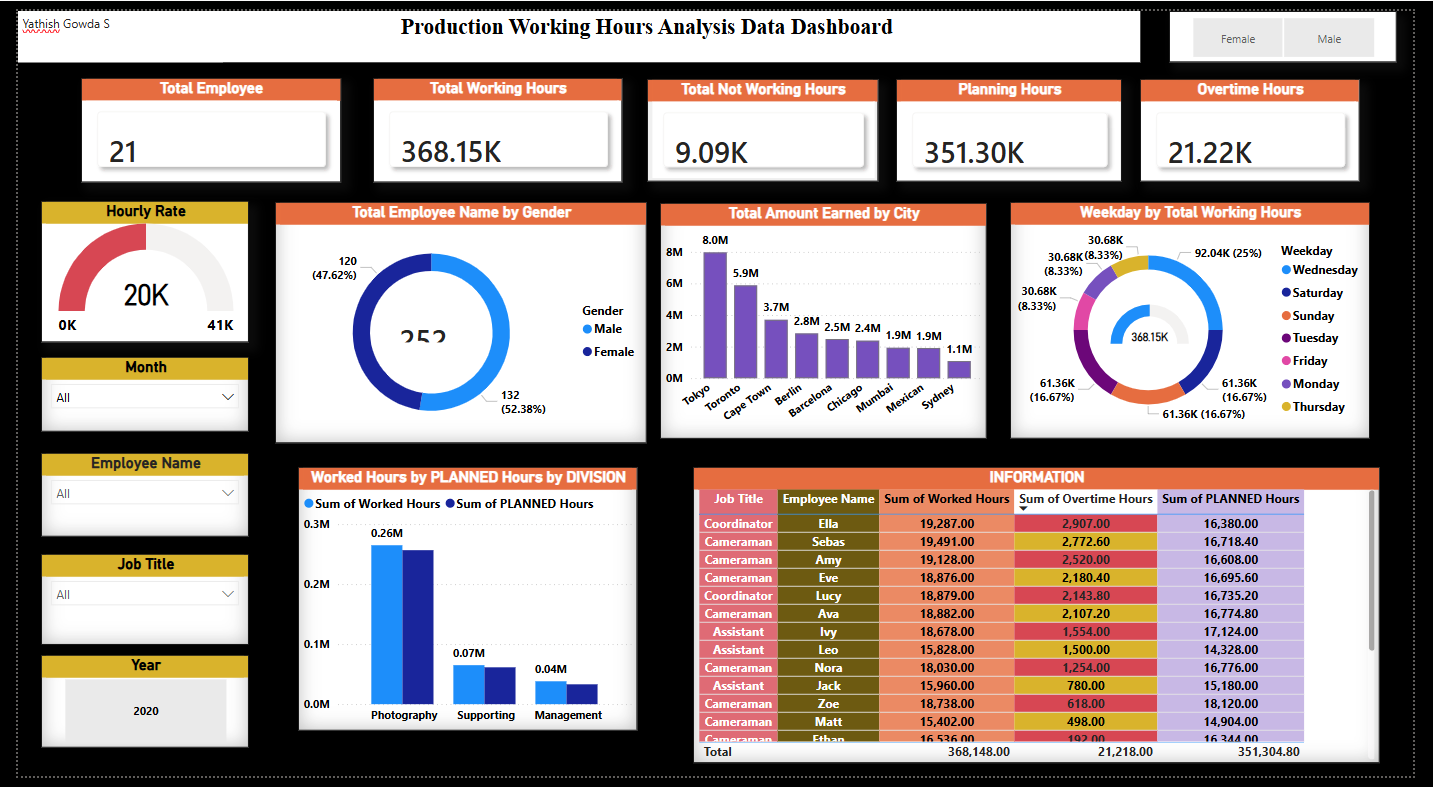

This screenshot's page, from the dashboard's own definition file:
{"tool":"powerbi","page":{"name":"Page 1","canvas":[1550,850],"ordinal":0},"visuals":[{"type":"cardVisual","title":"Total Employee","fields":{"Data":["Table1.Total Employees"]},"box":[70,74.3,288.6,115.7],"z":0},{"type":"cardVisual","title":"Total Working Hours","fields":{"Data":["Sum(Table1.Worked Hours)"]},"box":[394.3,74.3,277.1,115.7],"z":1000},{"type":"cardVisual","title":"Total Not Working Hours","fields":{"Data":["Sum(Table1.Unworked Hours)"]},"box":[698.6,75.7,257.1,114.3],"z":2000},{"type":"cardVisual","title":"Planning Hours","fields":{"Data":["Sum(Table1.PLANNED Hours)"]},"box":[975.7,75.7,251.4,114.3],"z":3000},{"type":"cardVisual","title":"Overtime Hours ","fields":{"Data":["Sum(Table1.Overtime Hours)"]},"box":[1247.1,75.7,244.3,114.3],"z":4000},{"type":"gauge","title":"Hourly Rate","fields":{"Y":["Sum(Table1.Hourly Rate)"]},"box":[25.7,211.4,231.4,157.1],"z":5000},{"type":"slicer","title":"Month","fields":{"Values":["Table1.Start Date.Variation.Date Hierarchy.Month"]},"box":[25.7,384.3,231.4,82.9],"z":6000},{"type":"slicer","title":"Employee Name ","fields":{"Values":["Table1.Employee Name"]},"box":[25.7,491.4,231.4,92.9],"z":7000},{"type":"slicer","title":"Job Title","fields":{"Values":["Table1.Job Title"]},"box":[25.7,602.9,231.4,101.4],"z":8000},{"type":"slicer","title":"Year ","fields":{"Values":["Table1.Year"]},"box":[25.7,715.7,231.4,102.9],"z":9000},{"type":"slicer","fields":{"Values":["Table1.Gender"]},"box":[1278.6,0,252.9,57.1],"z":10000},{"type":"donutChart","title":"Total Employee Name by Gender","fields":{"Category":["Table1.Gender"],"Y":["CountNonNull(Table1.Employee Name)"]},"box":[285,211.7,413.3,268.3],"z":11000},{"type":"clusteredColumnChart","title":"Total Amount Earned by City","fields":{"Y":["Sum(Table1.Amount Earned)"],"Category":["Table1.City"]},"box":[713.3,213.3,363.3,261.7],"z":12000},{"type":"donutChart","title":"Weekday by Total Working Hours","fields":{"Category":["Table1.Weekday"],"Y":["Sum(Table1.Worked Hours)"]},"box":[1101.7,211.7,400,263.3],"z":13000},{"type":"cardVisual","fields":{"Data":["CountNonNull(Table1.Employee Name)"]},"box":[406.7,321.7,103.3,51.7],"z":14000},{"type":"gauge","fields":{"Y":["Sum(Table1.Worked Hours)"]},"box":[1208.6,304.3,97.1,87.1],"z":15000},{"type":"clusteredColumnChart","title":"Worked Hours by PLANNED Hours by DIVISION","fields":{"Y":["Sum(Table1.Worked Hours)","Sum(Table1.PLANNED Hours)"],"Category":["Table1.DIVISION"]},"box":[311.4,507.1,377.1,292.9],"z":16000},{"type":"tableEx","title":"INFORMATION","fields":{"Values":["Table1.Job Title","Table1.Employee Name","Sum(Table1.Worked Hours)","Sum(Table1.Overtime Hours)","Sum(Table1.PLANNED Hours)"]},"box":[750,507.1,762.9,328.6],"z":17000},{"type":"textbox","box":[0,0,1247.1,57.1],"z":18000},{"type":"image","box":[355.7,0,75.7,57.1],"z":19000},{"type":"textbox","box":[0,0,227.1,57.1],"z":20000}]}

Visuals, with their boxes in screenshot pixels (x1, y1, x2, y2), scaled from the page's 1550x850 canvas onto the 1433x787 screenshot:
"Total Employee" cardVisual: BBox(65, 69, 332, 176)
"Total Working Hours" cardVisual: BBox(365, 69, 621, 176)
"Total Not Working Hours" cardVisual: BBox(646, 70, 884, 176)
"Planning Hours" cardVisual: BBox(902, 70, 1134, 176)
"Overtime Hours " cardVisual: BBox(1153, 70, 1379, 176)
"Hourly Rate" gauge: BBox(24, 196, 238, 341)
"Month" slicer: BBox(24, 356, 238, 433)
"Employee Name " slicer: BBox(24, 455, 238, 541)
"Job Title" slicer: BBox(24, 558, 238, 652)
"Year " slicer: BBox(24, 663, 238, 758)
slicer - Table1.Gender: BBox(1182, 0, 1416, 53)
"Total Employee Name by Gender" donutChart: BBox(263, 196, 646, 444)
"Total Amount Earned by City" clusteredColumnChart: BBox(659, 197, 995, 440)
"Weekday by Total Working Hours" donutChart: BBox(1019, 196, 1388, 440)
cardVisual - CountNonNull(Table1.Employee Name): BBox(376, 298, 472, 346)
gauge - Sum(Table1.Worked Hours): BBox(1117, 282, 1207, 362)
"Worked Hours by PLANNED Hours by DIVISION" clusteredColumnChart: BBox(288, 470, 637, 741)
"INFORMATION" tableEx: BBox(693, 470, 1399, 774)
textbox: BBox(0, 0, 1153, 53)
image: BBox(329, 0, 399, 53)
textbox: BBox(0, 0, 210, 53)
